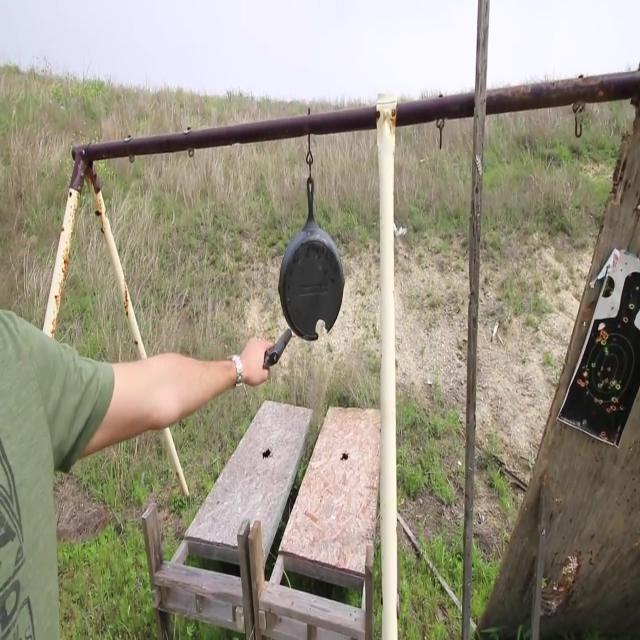Weapon: (276, 135, 353, 354), (238, 306, 312, 415)
